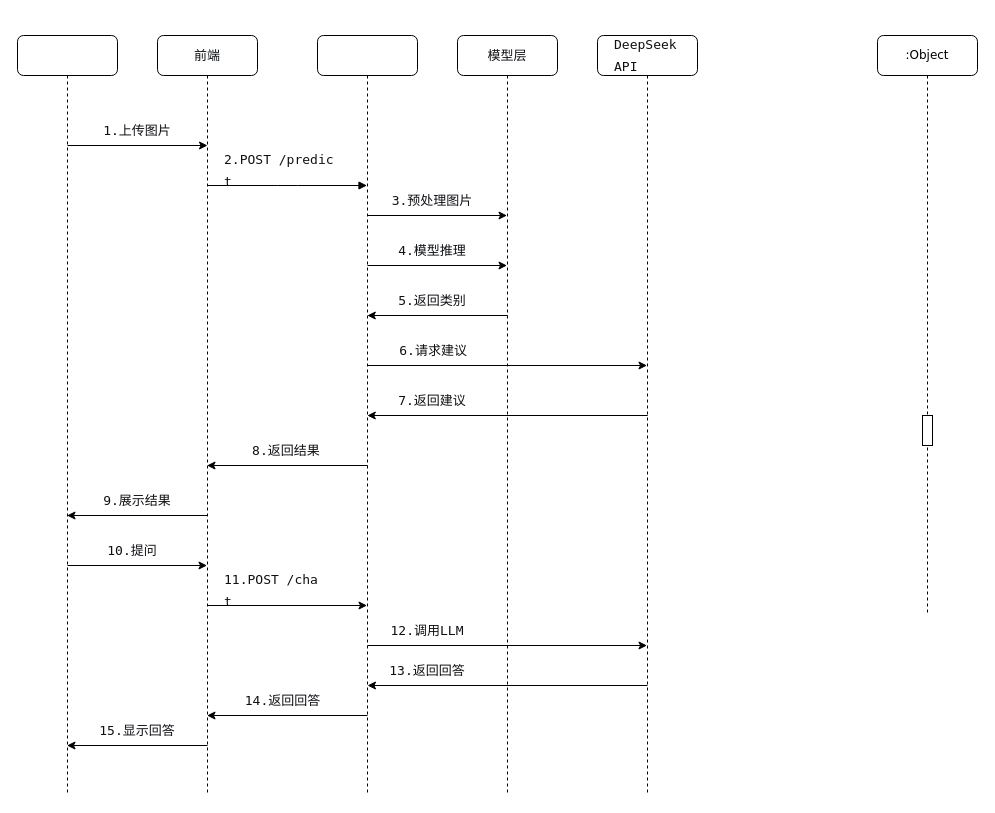
This 995x813 diagram has some shape labels left out. Here are the shapes that lost their labels. From the top down, the box of each, then its label:
(16, 34, 118, 796): 用户
(316, 34, 418, 796): 后端
